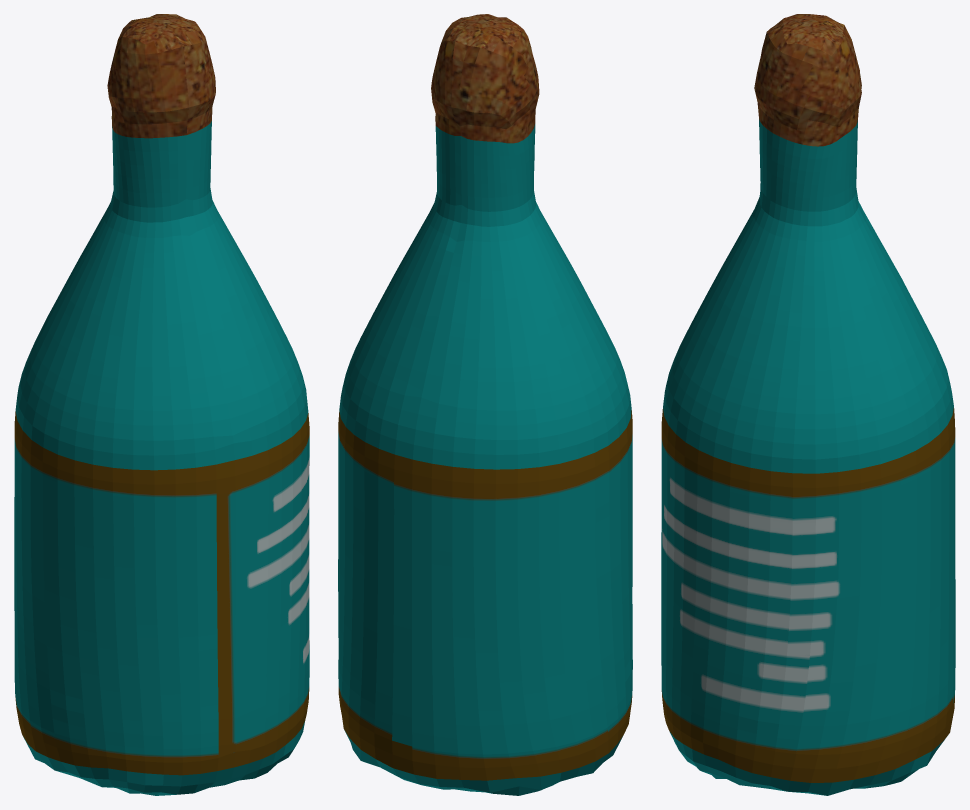
Rendered from Bottle.fbx.
The picture shows the model from 3 angles, left to right: view 1: azimuth 30°, elevation 25°; view 2: azimuth 150°, elevation 25°; view 3: azimuth 270°, elevation 25°; orthographic projection.
Parts seen in each view (by area): view 1: Bottle; view 2: Bottle; view 3: Bottle.
Boxes of the visible parts, x1,y1,x2,y2 form: Bottle: (14,14,309,795); Bottle: (338,14,632,795); Bottle: (661,14,955,795).
Size of the model in its own units: 30.58 by 83.65 by 30.44.
